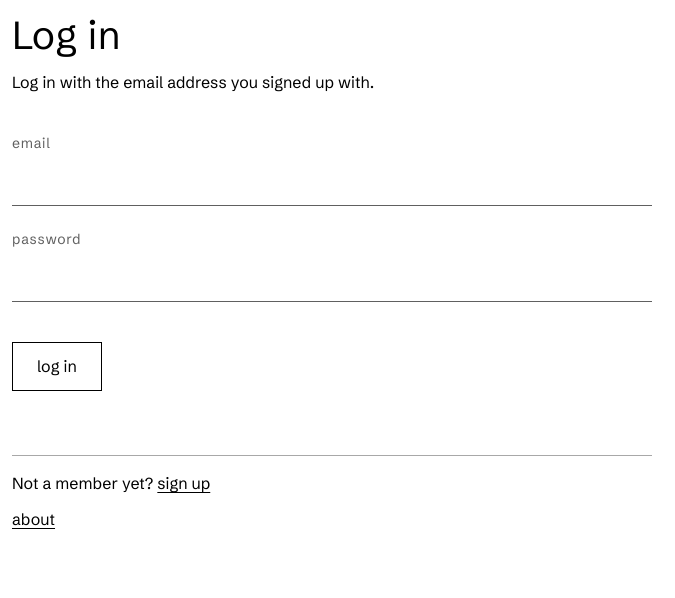
Test case: LoginPage › F-13: a clicked submit that failed hands the focus to the form message instead of the page
Type "mira.novak@example.org" into the field labelled "email".
click(332, 184); type("mira.novak@example.org")  # box [12, 162, 652, 206]
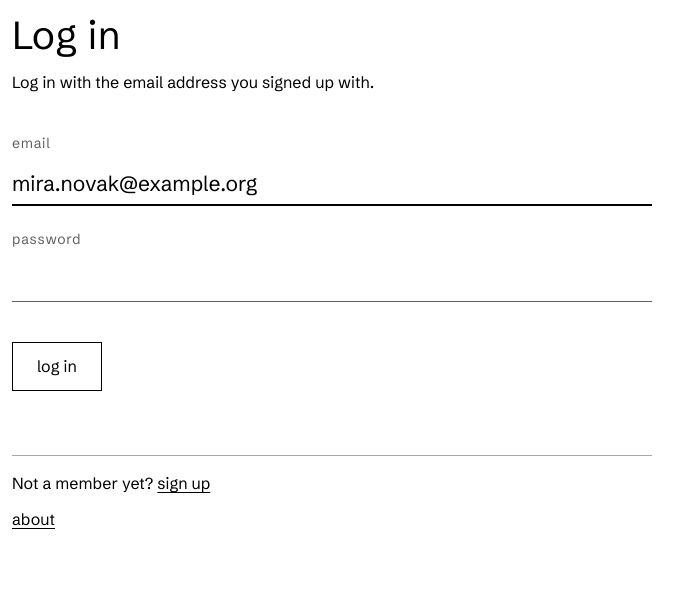
Type "quiet harbour lamps" into the password field labelled "password".
click(332, 280); type("quiet harbour lamps")  # box [12, 258, 652, 302]
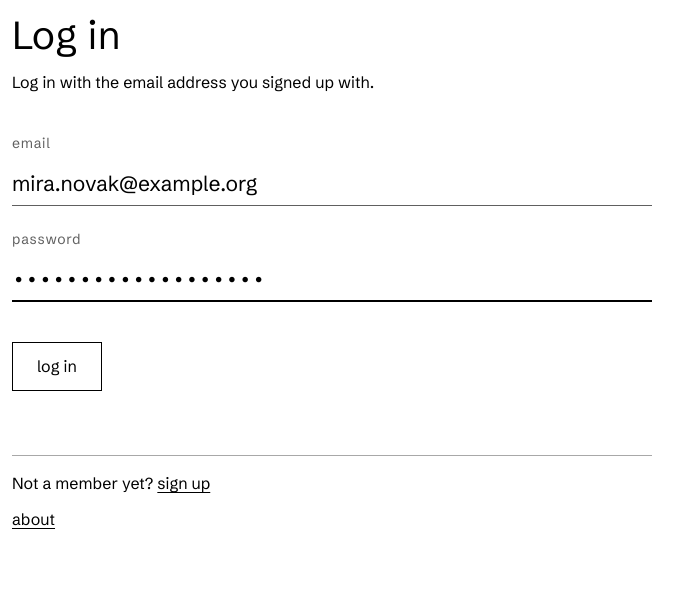
Click the button "log in".
click(57, 366)  # box [12, 342, 102, 391]
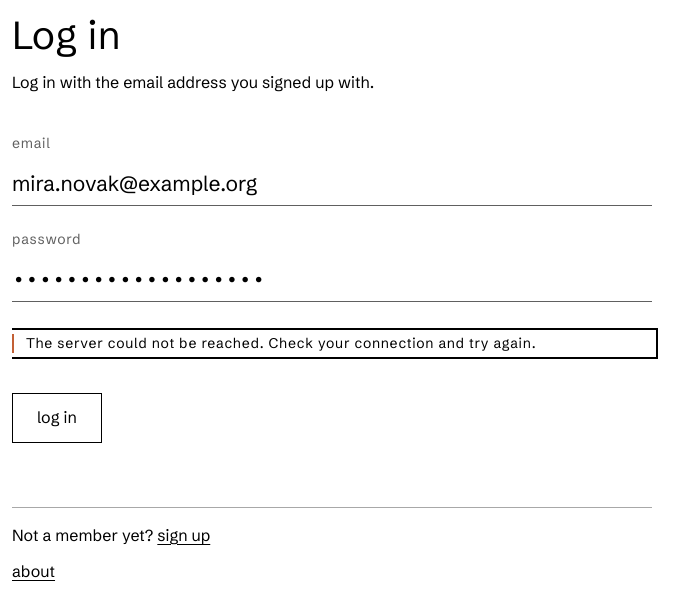
Expected: the message reads "The server could not be reached. Check your connection and try again.", [26, 334, 536, 352]
